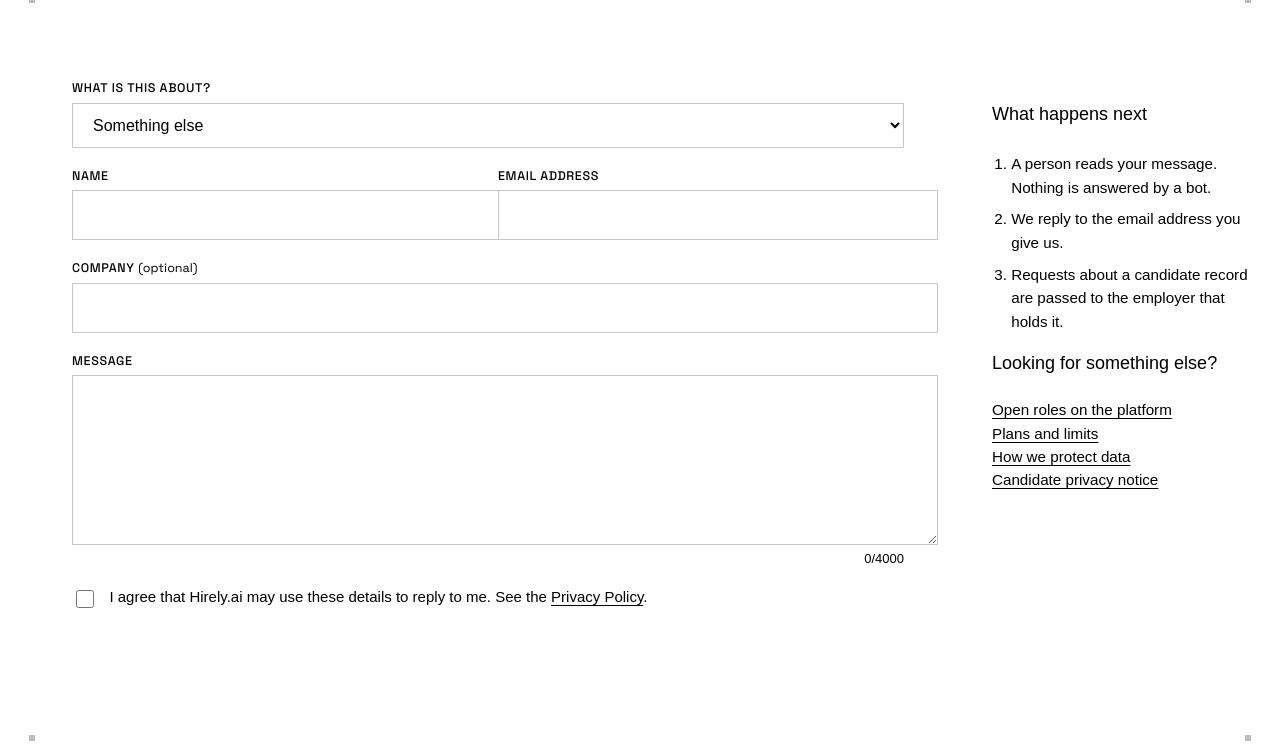
Scenario: ContactPage: form › counts the characters in the message
The image size is (1280, 746).
(page scrolled)
Expected: the text "0/4000" is shown, top-left (864, 551), bottom-right (904, 566)
Type "hello" into the text box labelled "Message" at (505, 460), box top-left (72, 375), bottom-right (938, 545)
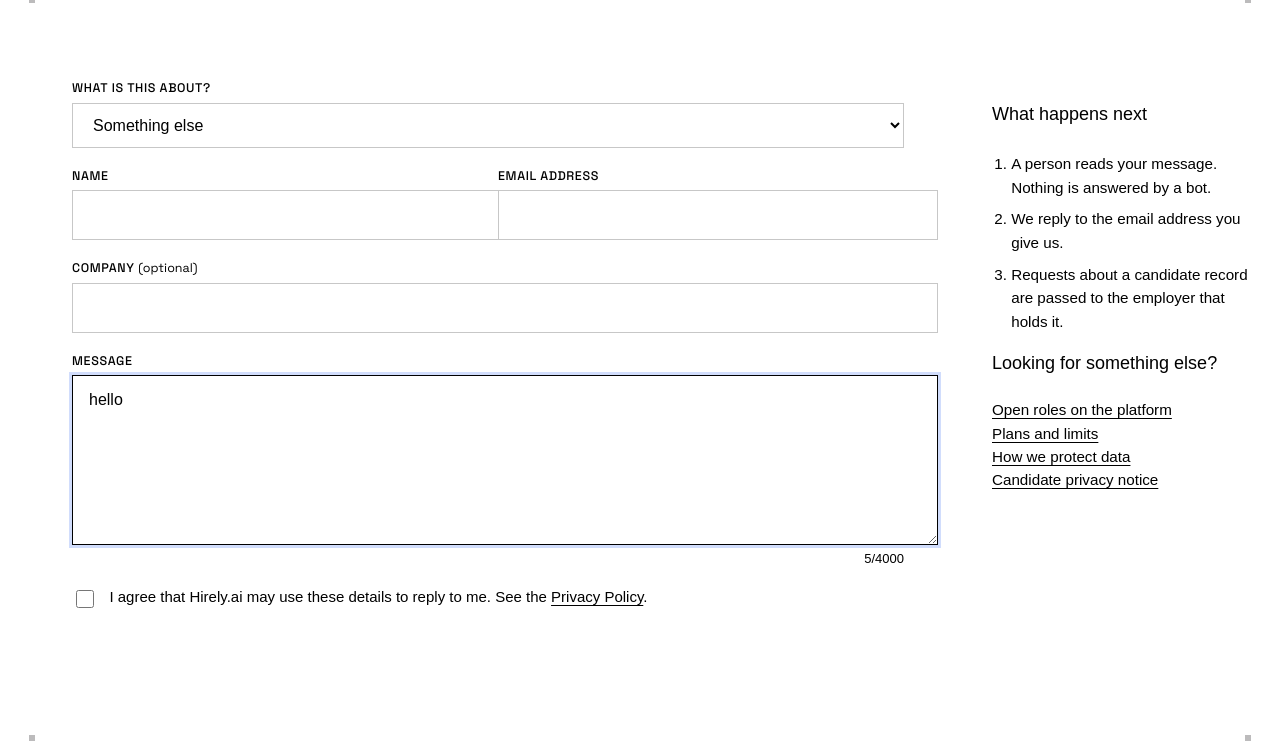
Now the text "5/4000" is shown, box top-left (864, 551), bottom-right (904, 566)
